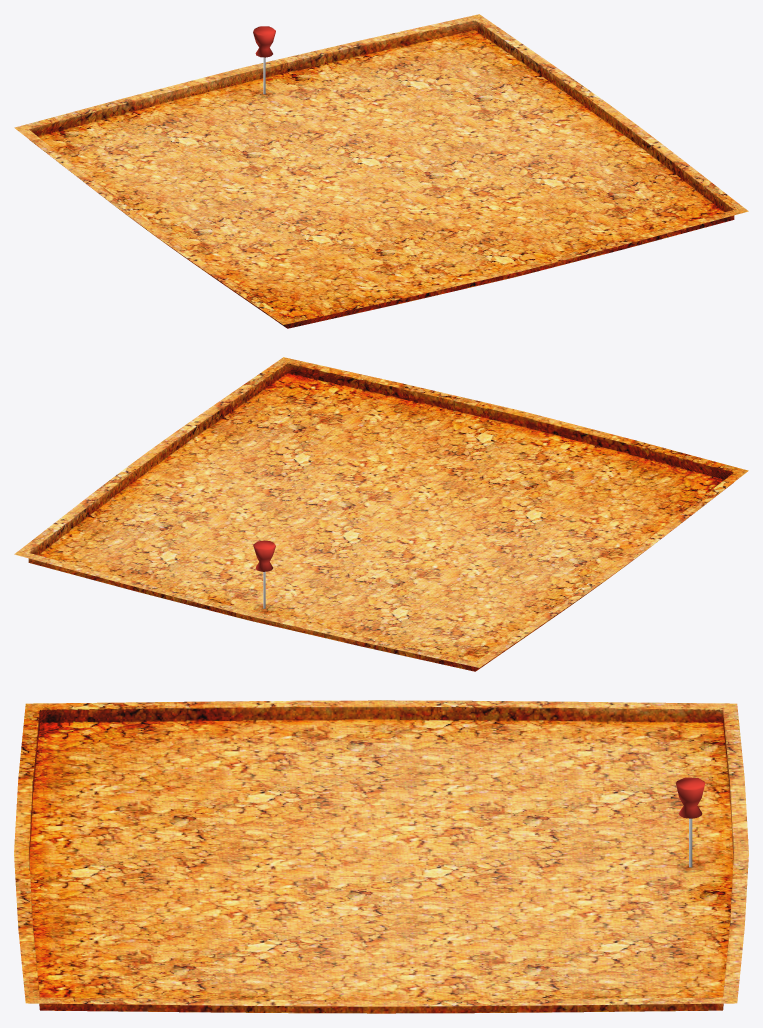
Rendered from ykp_corkboard_menu.glb.
3 renders of one model, top to bottom at view 1: azimuth 30°, elevation 25°; view 2: azimuth 150°, elevation 25°; view 3: azimuth 270°, elevation 25°, orthographic. The views are drawn at different scales.
Parts seen in each view (by area): view 1: corkboard, pin; view 2: corkboard, pin; view 3: corkboard, pin.
Part boxes in pixels (x1,y1,x2,y2): corkboard: (14,14,748,328); pin: (253,26,275,94); corkboard: (14,357,748,671); pin: (253,540,275,608); corkboard: (14,700,748,1013); pin: (676,777,704,867).
Bounding box in the file's own units: 4.26 × 0.5992 × 4.32.
3 materials, 1 textured.
